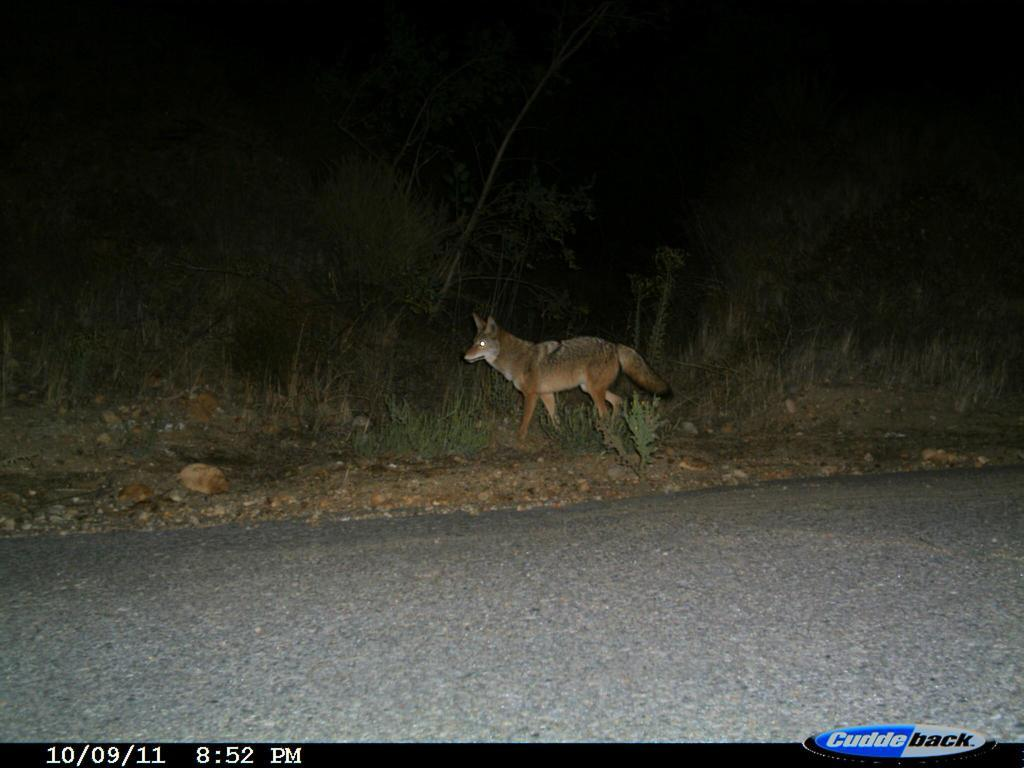coyote: (464, 305, 680, 457)
